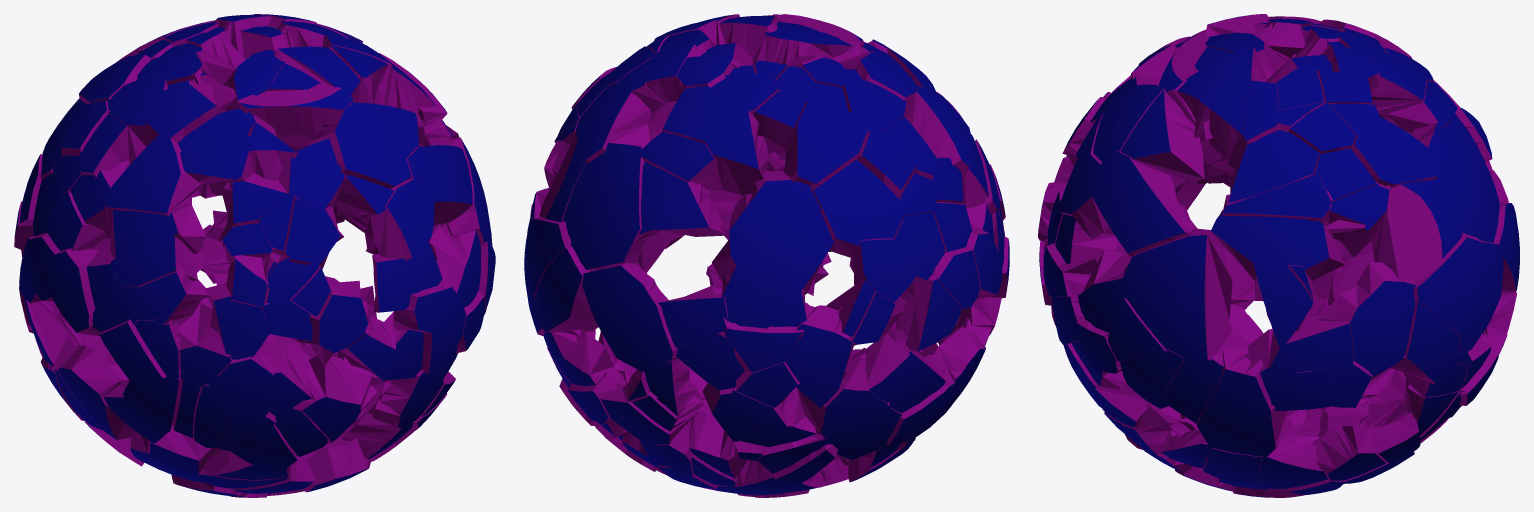
The model's file is SM_BrittleHollow_01.fbx.
The picture shows the model from 3 angles, left to right: view 1: azimuth 30°, elevation 25°; view 2: azimuth 150°, elevation 25°; view 3: azimuth 270°, elevation 25°; orthographic projection.
Visible parts, largest first — view 1: matchsize2; view 2: matchsize2; view 3: matchsize2.
Part boxes in pixels (x1,y1,x2,y2): matchsize2: (14,14,495,497); matchsize2: (524,14,1009,497); matchsize2: (1038,14,1519,497).
Size of the model in its own units: 111 by 110 by 111.
